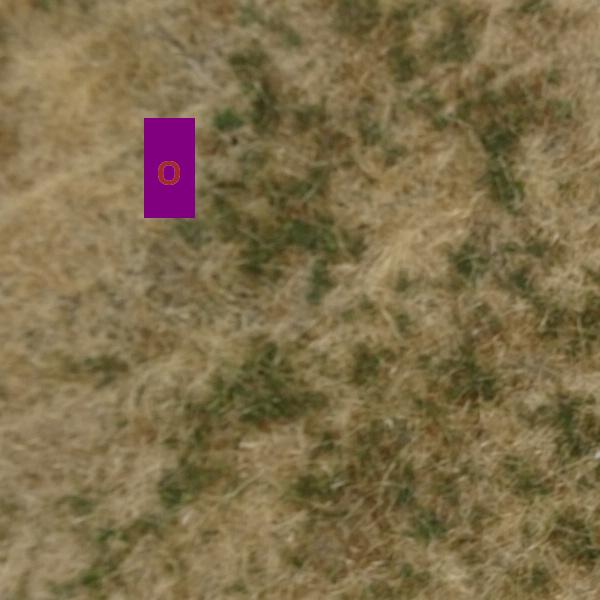Rectangle: (119, 118, 219, 218)
